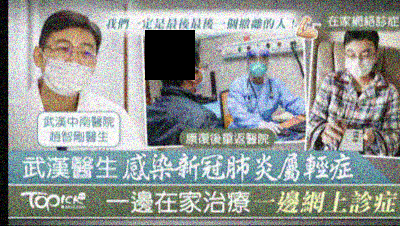with_mask: (40, 34, 97, 95), (344, 46, 375, 79), (194, 61, 208, 92), (249, 55, 269, 76)
